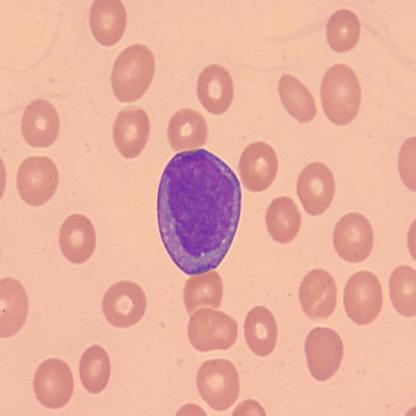Promyelocyte: (154, 143, 242, 277)
